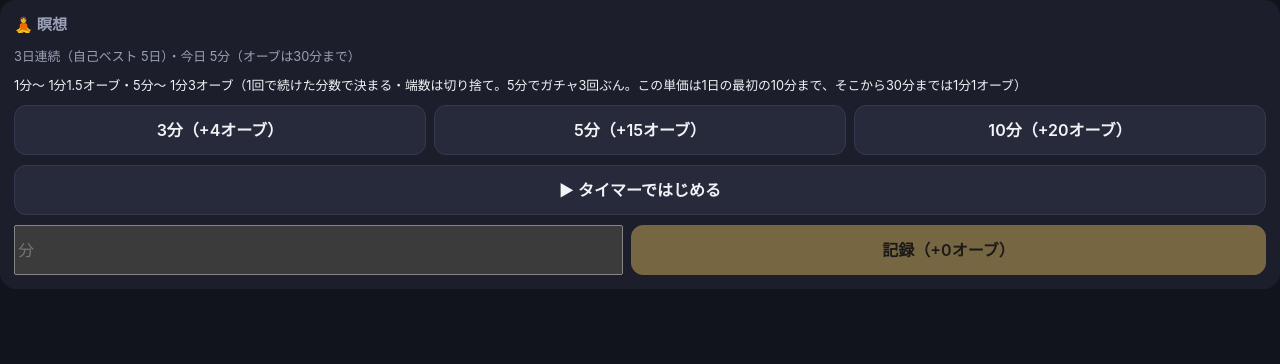
画面の表示 › 習慣：やった直後にその場で分数を記録してオーブをもらう（1日30分まで）
The width and height of the screenshot is (1280, 364).
Click the button "10分（+20オーブ）".
click(1060, 130)  # box [854,105,1266,155]
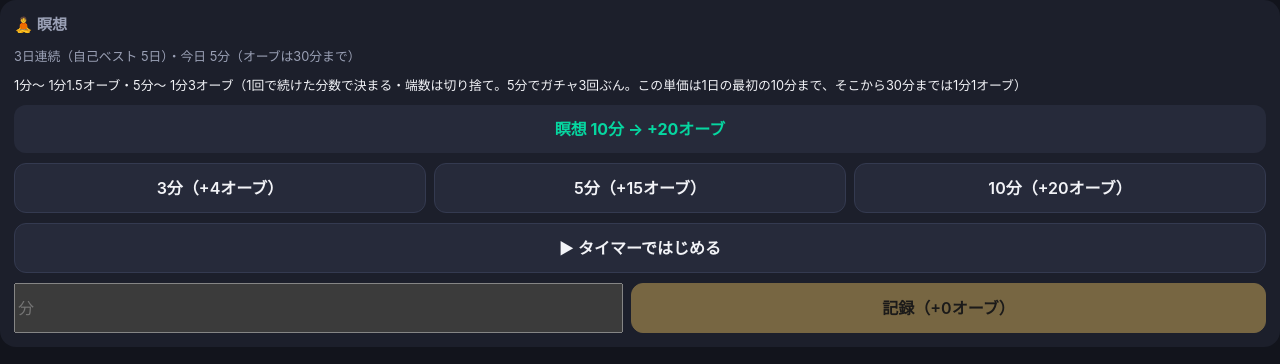
Expected: the text "瞑想 10分 → +20オーブ" is shown, [14,105,1266,153]
